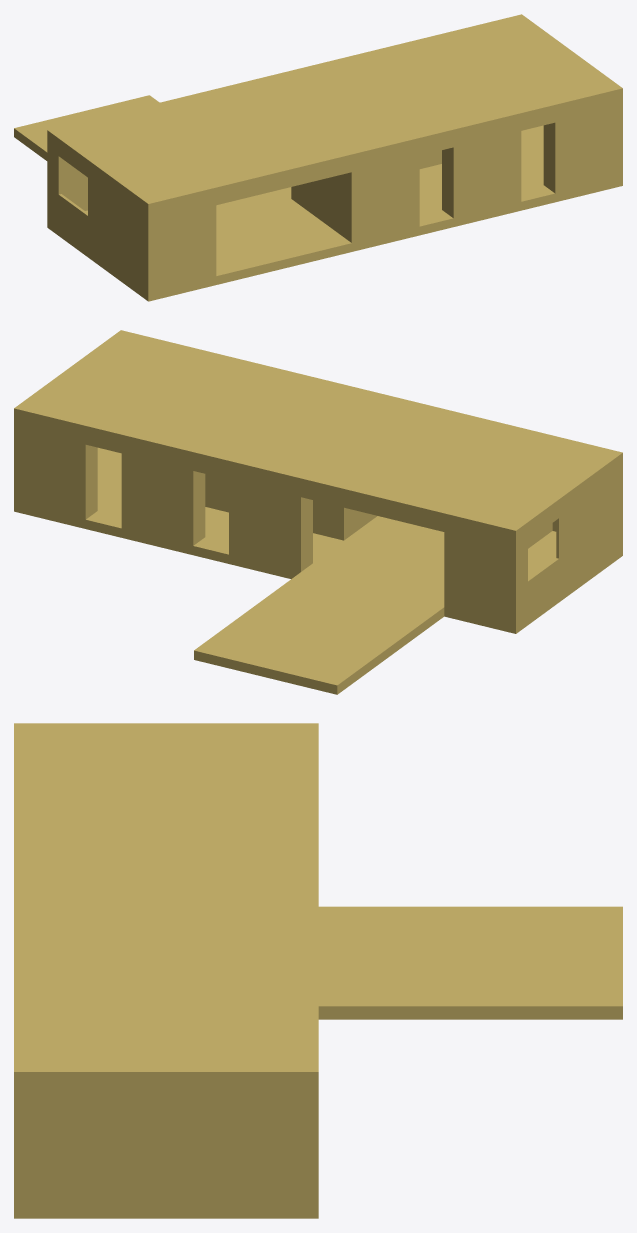
The model's file is Volumenes.glb.
3 renders of one model, top to bottom at view 1: azimuth 30°, elevation 25°; view 2: azimuth 150°, elevation 25°; view 3: azimuth 270°, elevation 25°, orthographic. The views are drawn at different scales.
Visible parts, largest first — view 1: Mesh_Mesh_head_geo.001_lambert2SG.001; view 2: Mesh_Mesh_head_geo.001_lambert2SG.001; view 3: Mesh_Mesh_head_geo.001_lambert2SG.001.
Boxes of the visible parts, bbox=[...] form: Mesh_Mesh_head_geo.001_lambert2SG.001: bbox=[14, 14, 622, 301]; Mesh_Mesh_head_geo.001_lambert2SG.001: bbox=[14, 330, 622, 694]; Mesh_Mesh_head_geo.001_lambert2SG.001: bbox=[14, 723, 622, 1218].
Size of the model in its own units: 0.168 by 0.033 by 0.124.
